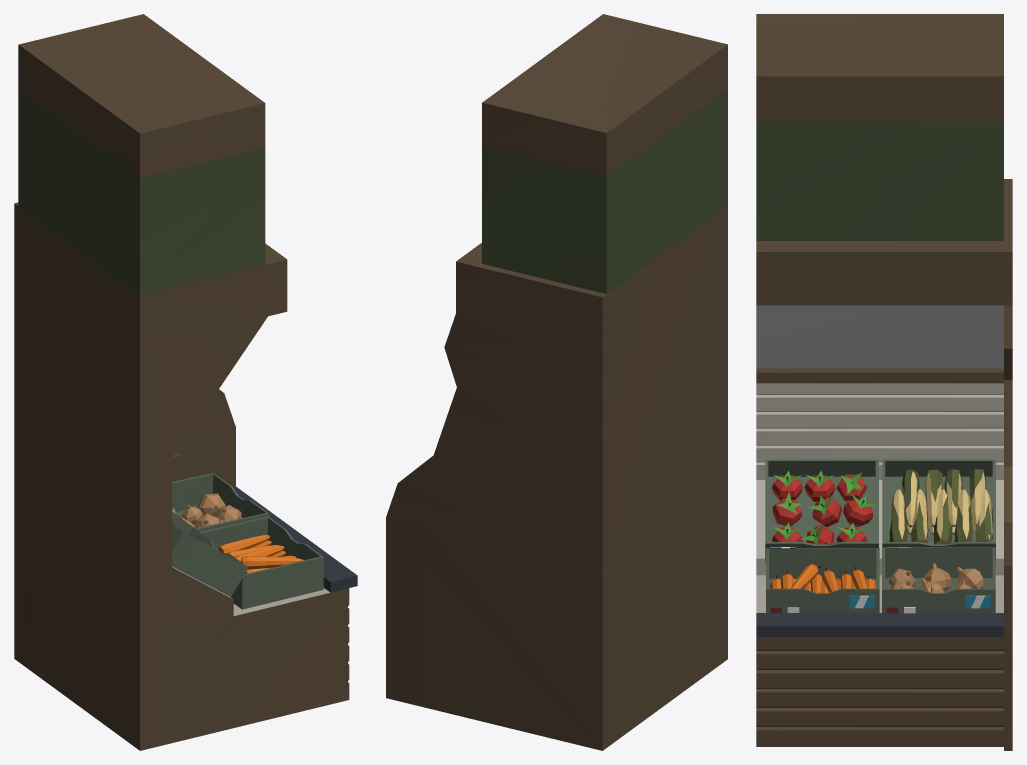
The model's file is SM_fruitShelve_07.glb.
3 renders of one model, left to right at view 1: azimuth 30°, elevation 25°; view 2: azimuth 150°, elevation 25°; view 3: azimuth 270°, elevation 25°, orthographic. The views are drawn at different scales.
Visible parts, largest first — view 1: SM_fruitShelve_07; view 2: SM_fruitShelve_07; view 3: SM_fruitShelve_07.
Part boxes in pixels (x1,y1,x2,y2): SM_fruitShelve_07: (14, 14, 357, 750); SM_fruitShelve_07: (386, 14, 727, 750); SM_fruitShelve_07: (756, 14, 1012, 750).
Bounding box in the file's own units: 1.03 × 2.8 × 1.03.
Materials: 2 (1 with a texture image).
